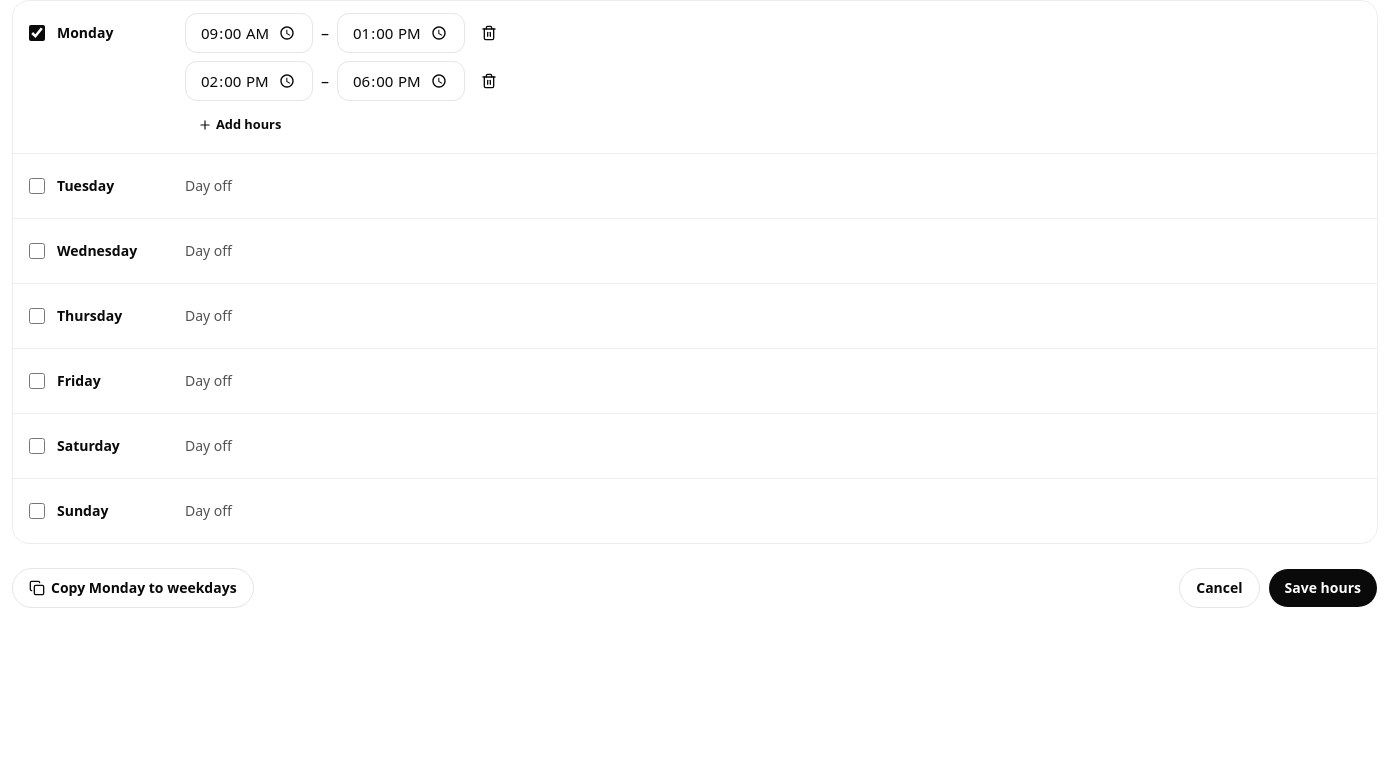
Test: WorkScheduleForm › removes a range and turns the day off after the last one
Click the button named "Remove Monday hours 2" at (489, 81), box [473,65,505,97]
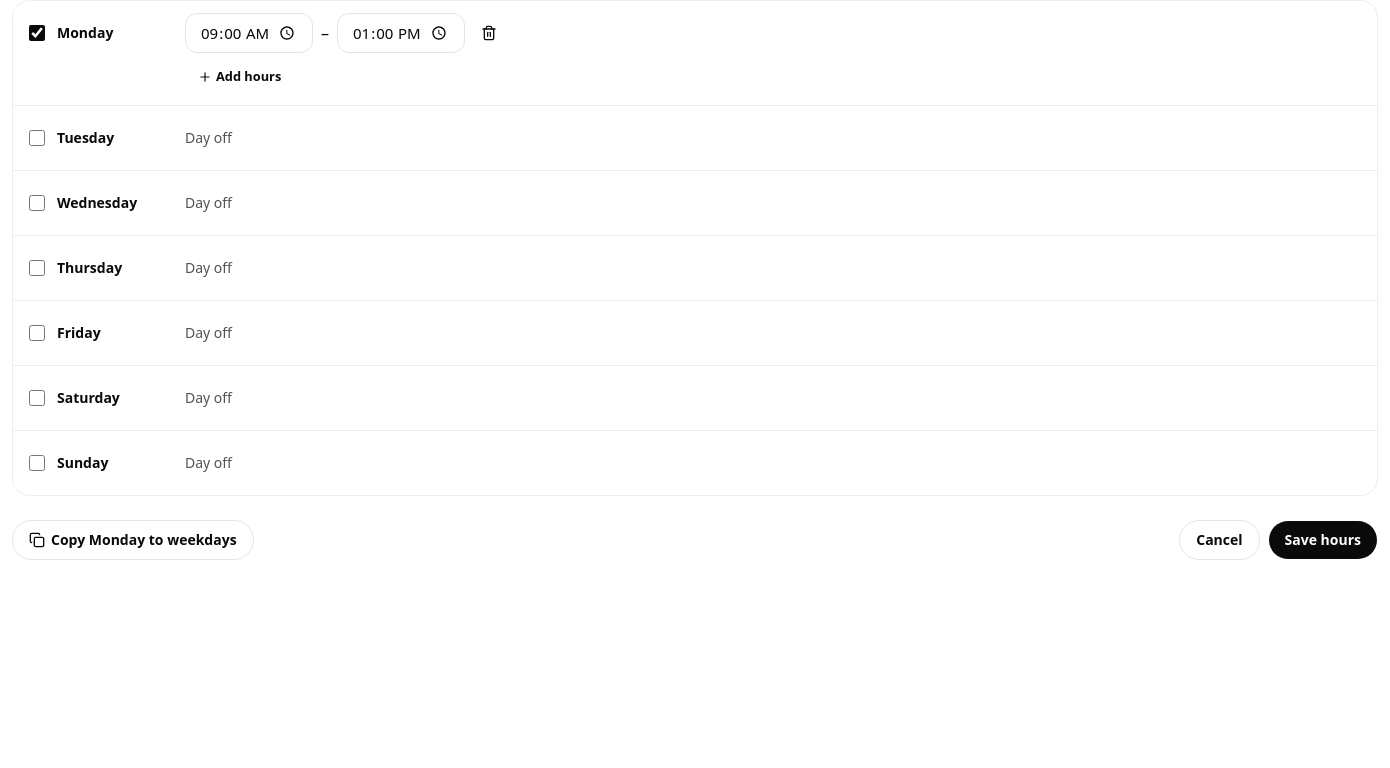
Click the button named "Remove Monday hours 1" at (489, 33), box [473,17,505,49]
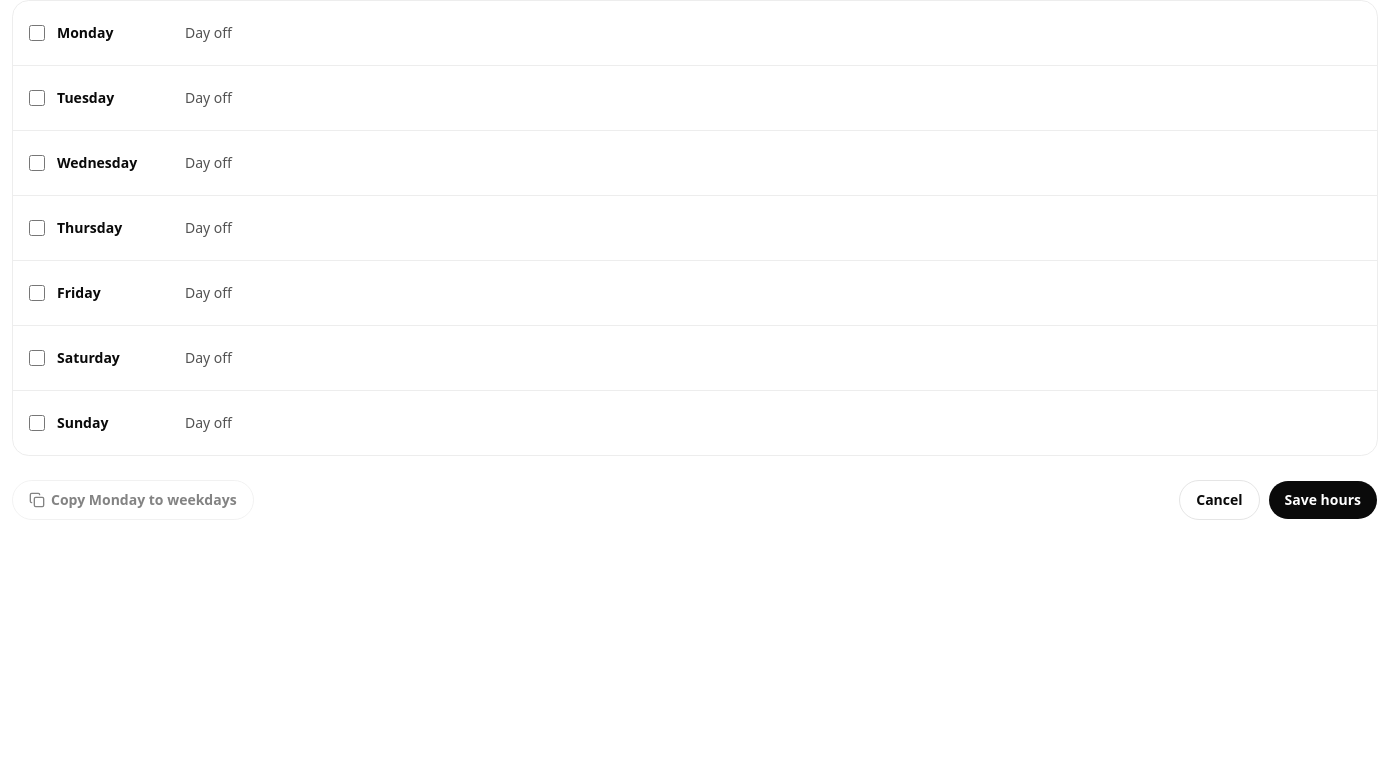
Expected: the checkbox labelled "Monday" is not checked, [29,25,45,41]
